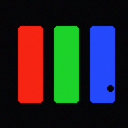0 point: (107, 85, 113, 91)
